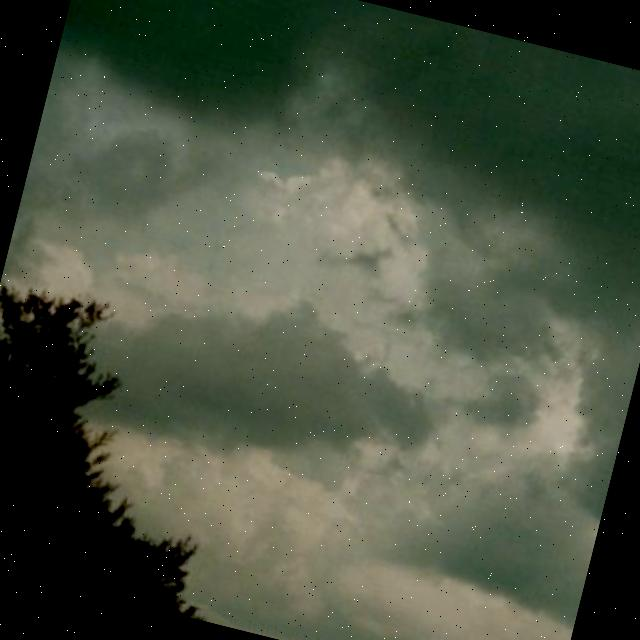Sc: (8, 1, 640, 406)
